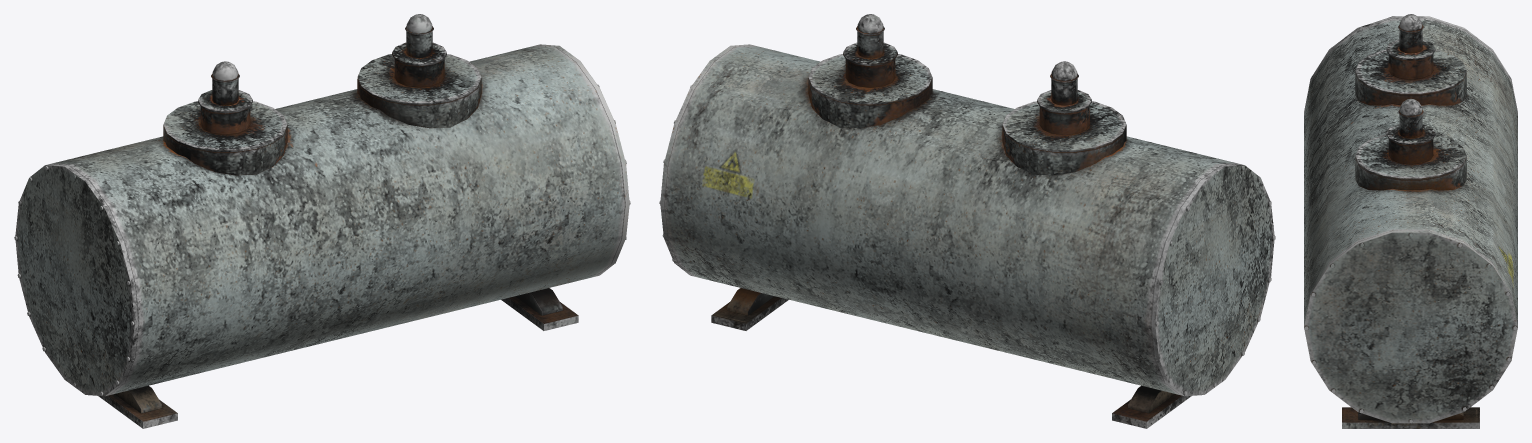
File: oil_tank.glb
The picture shows the model from 3 angles, left to right: view 1: azimuth 30°, elevation 25°; view 2: azimuth 150°, elevation 25°; view 3: azimuth 270°, elevation 25°; orthographic projection. The views are drawn at different scales.
Parts seen in each view (by area): view 1: Object_2; view 2: Object_2; view 3: Object_2.
Boxes of the visible parts, left/top/right/bottom form: Object_2: left=14, top=14, right=630, bottom=428; Object_2: left=659, top=14, right=1275, bottom=428; Object_2: left=1304, top=14, right=1517, bottom=428.
Bounding box in the file's own units: 1290 × 746 × 523.
Materials: 1 (1 with a texture image).
